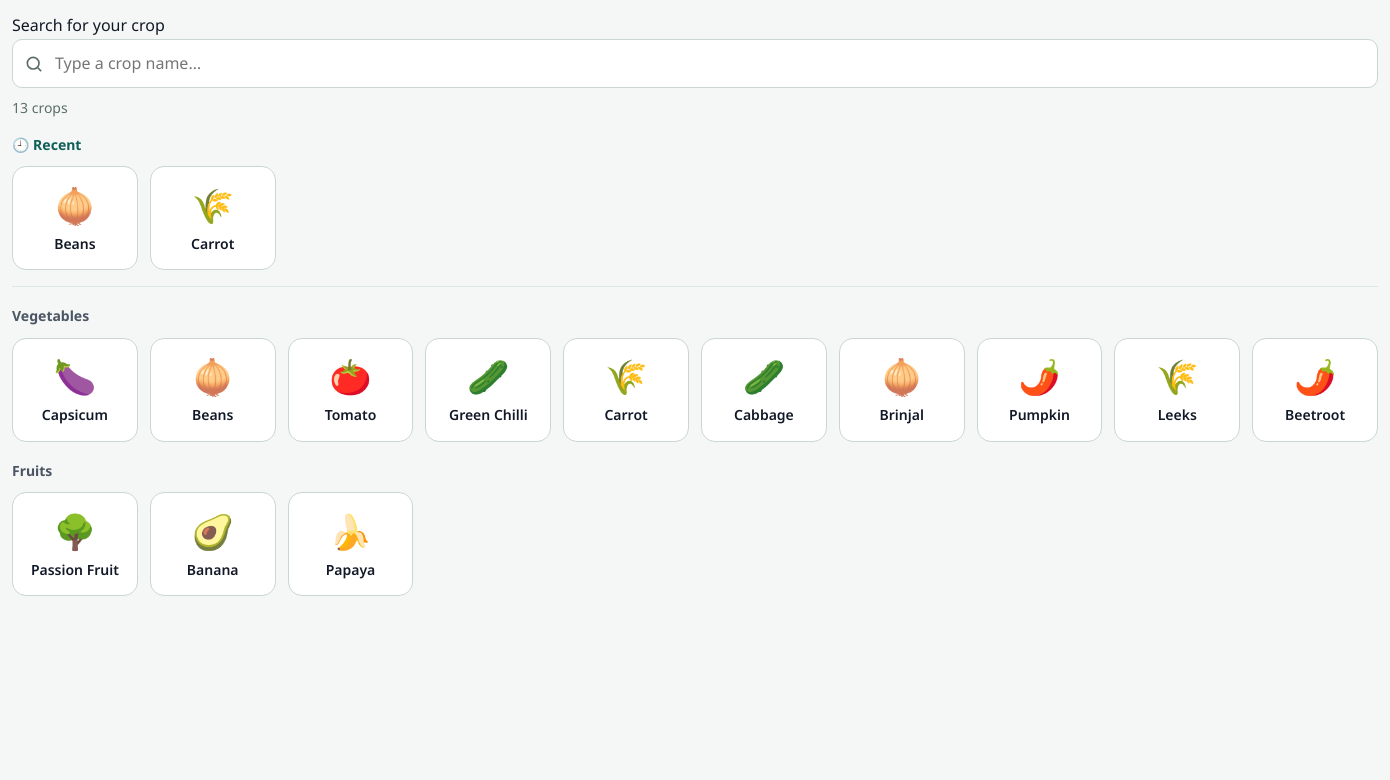
Scenario: CropPicker — Recent group (FE-16) › hides the Recent group while searching (matches only)
Type "Beans" into the search field. click: (695, 64)
box: [12,39,1378,88]
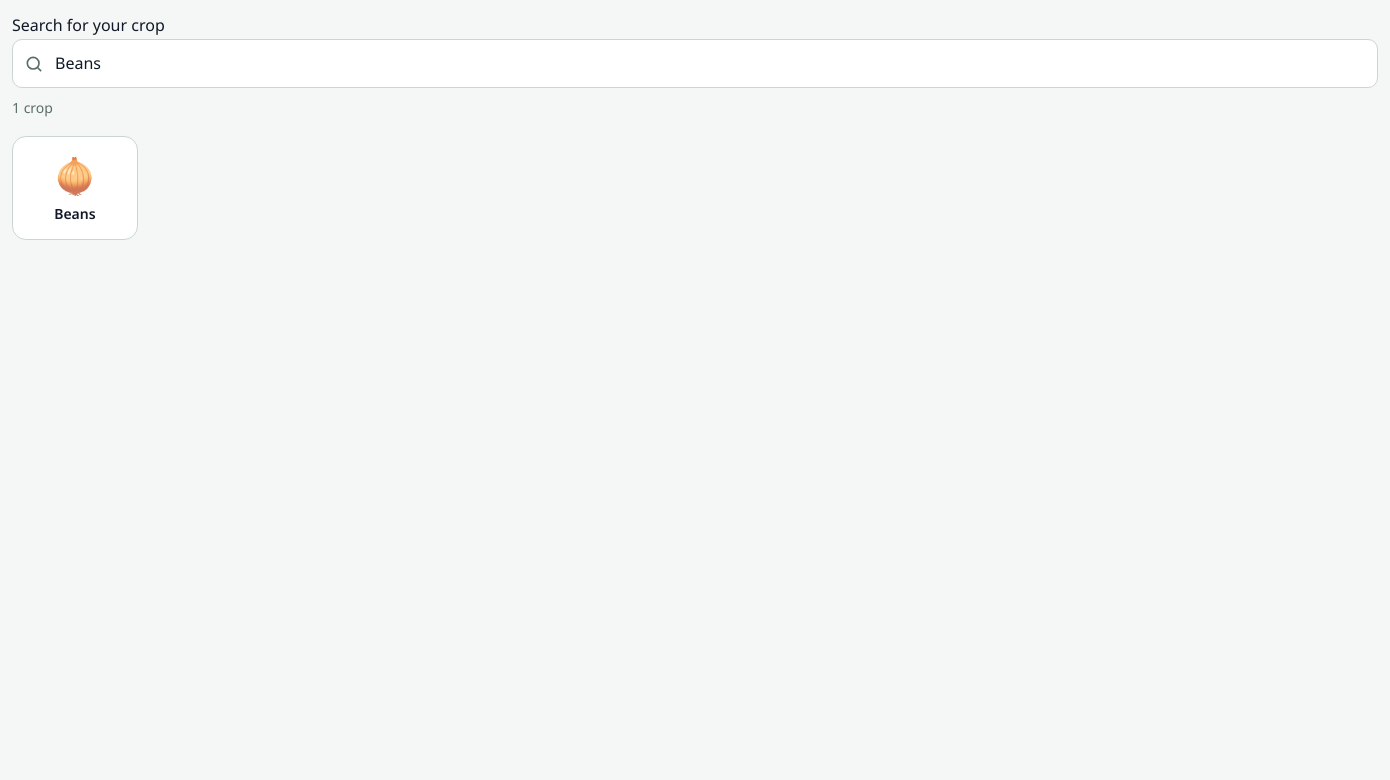
Expected: the heading "Recent" is gone
Expected: the number of buttons "🧅 Beans" is 1, [12,136,138,240]
